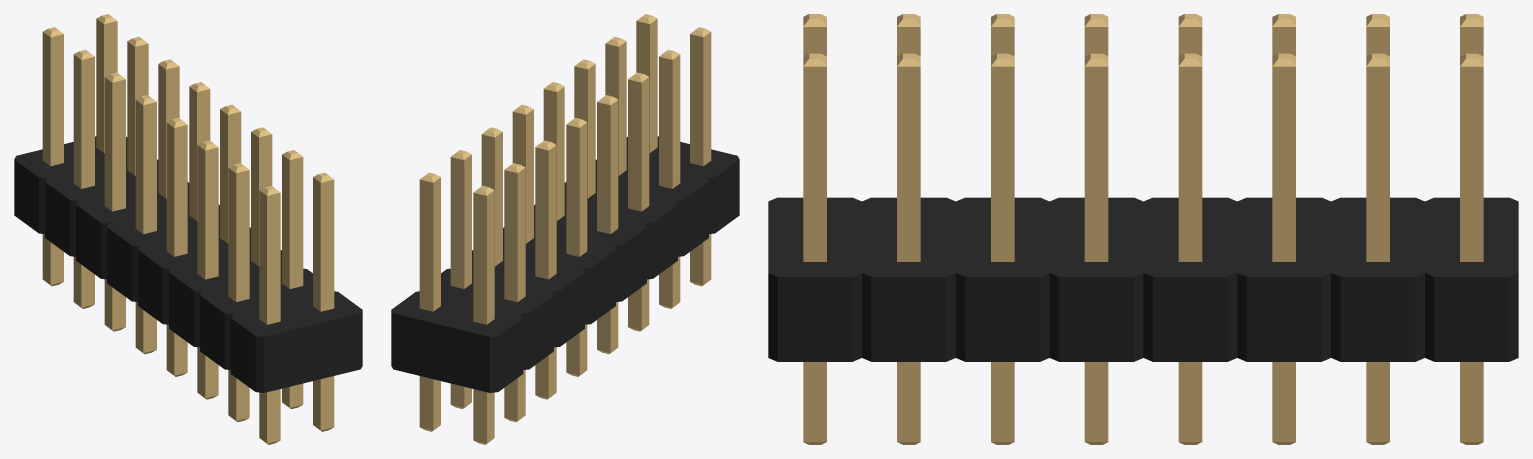
Rendered from PinHeader_2x08_P2.54mm_Vertical.glb.
3 renders of one model, left to right at view 1: azimuth 30°, elevation 25°; view 2: azimuth 150°, elevation 25°; view 3: azimuth 270°, elevation 25°, orthographic. The views are drawn at different scales.
Parts seen in each view (by area): view 1: =>[0:1:1:3]; view 2: =>[0:1:1:3]; view 3: =>[0:1:1:3].
Part boxes in pixels (left/top/right/bottom): =>[0:1:1:3]: left=14, top=14, right=362, bottom=444; =>[0:1:1:3]: left=391, top=14, right=739, bottom=444; =>[0:1:1:3]: left=768, top=14, right=1518, bottom=444.
Size of the model in its own units: 0.00508 by 0.0115 by 0.0203.
